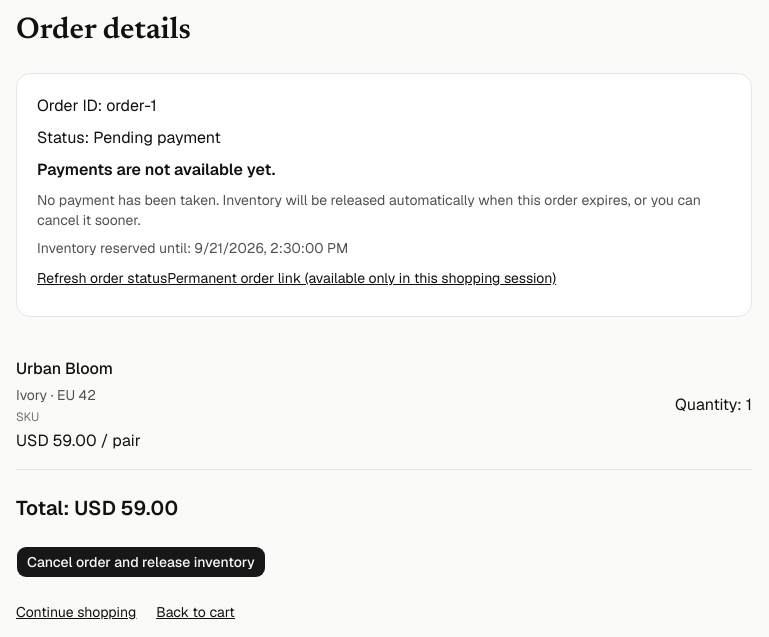
shows the reservation deadline and refreshes to expired without enabling payment
The image size is (769, 637).
expect the text "Status: Pending payment" is shown: met, box left=37, top=127, right=221, bottom=148
Click the button "Refresh order status": (102, 278) left=37, top=268, right=167, bottom=288
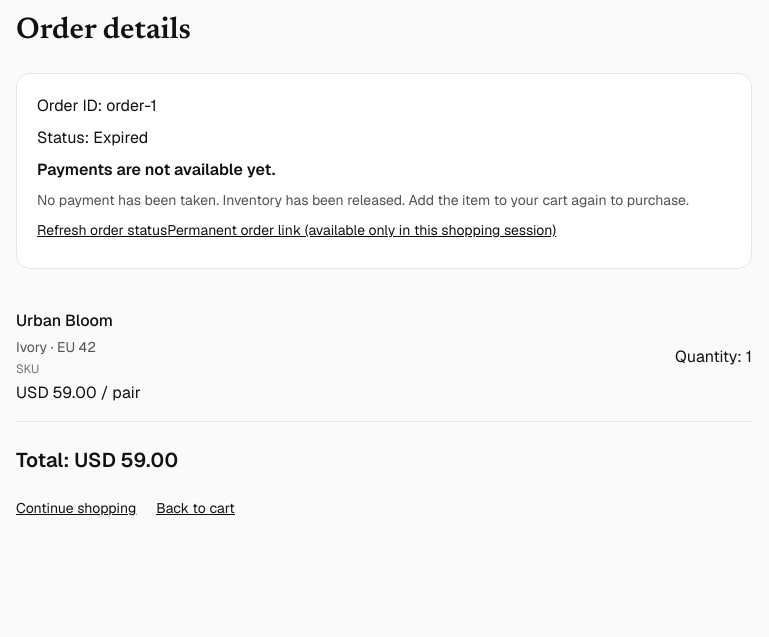
expect the text "Status: Expired" is shown: met, box left=37, top=127, right=148, bottom=148
expect the text "Inventory has been released" is shown: met, box left=37, top=191, right=689, bottom=209
expect the button "Cancel order and release inventory" is gone: met
